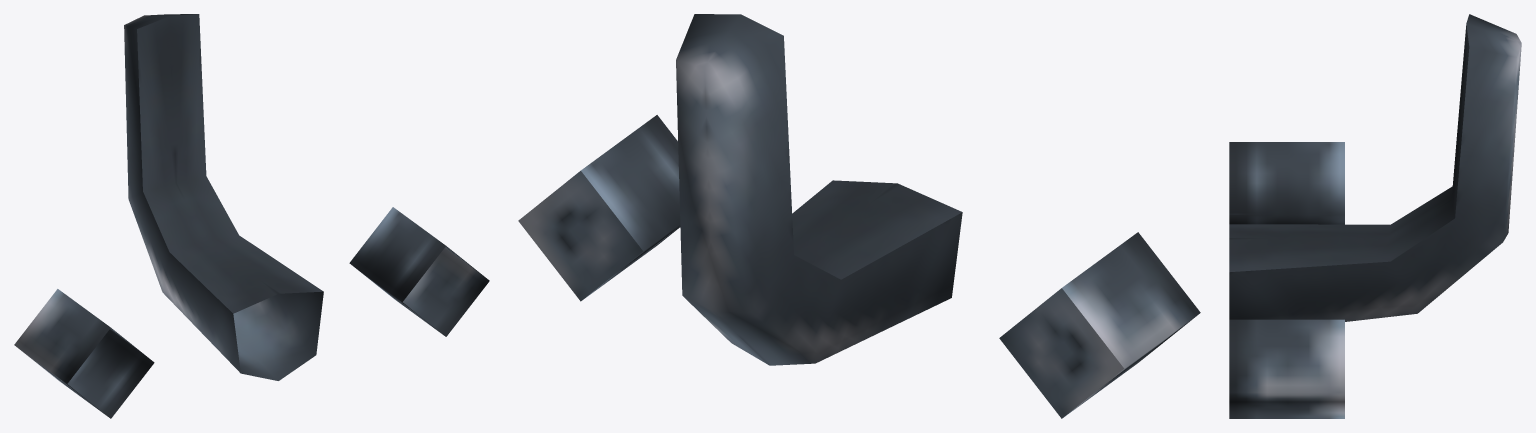
File: props_faucet.fbx
The picture shows the model from 3 angles, left to right: view 1: azimuth 30°, elevation 25°; view 2: azimuth 150°, elevation 25°; view 3: azimuth 270°, elevation 25°; orthographic projection. The views are drawn at different scales.
Visible parts, largest first — view 1: faucet; view 2: faucet; view 3: faucet.
Boxes of the visible parts, <box> form: faucet: <box>14,14,489,418</box>; faucet: <box>518,14,1200,418</box>; faucet: <box>1229,14,1521,418</box>.
Size of the model in its own units: 0.3804 by 0.2453 by 0.2099.
Materials: 1 (1 with a texture image).
